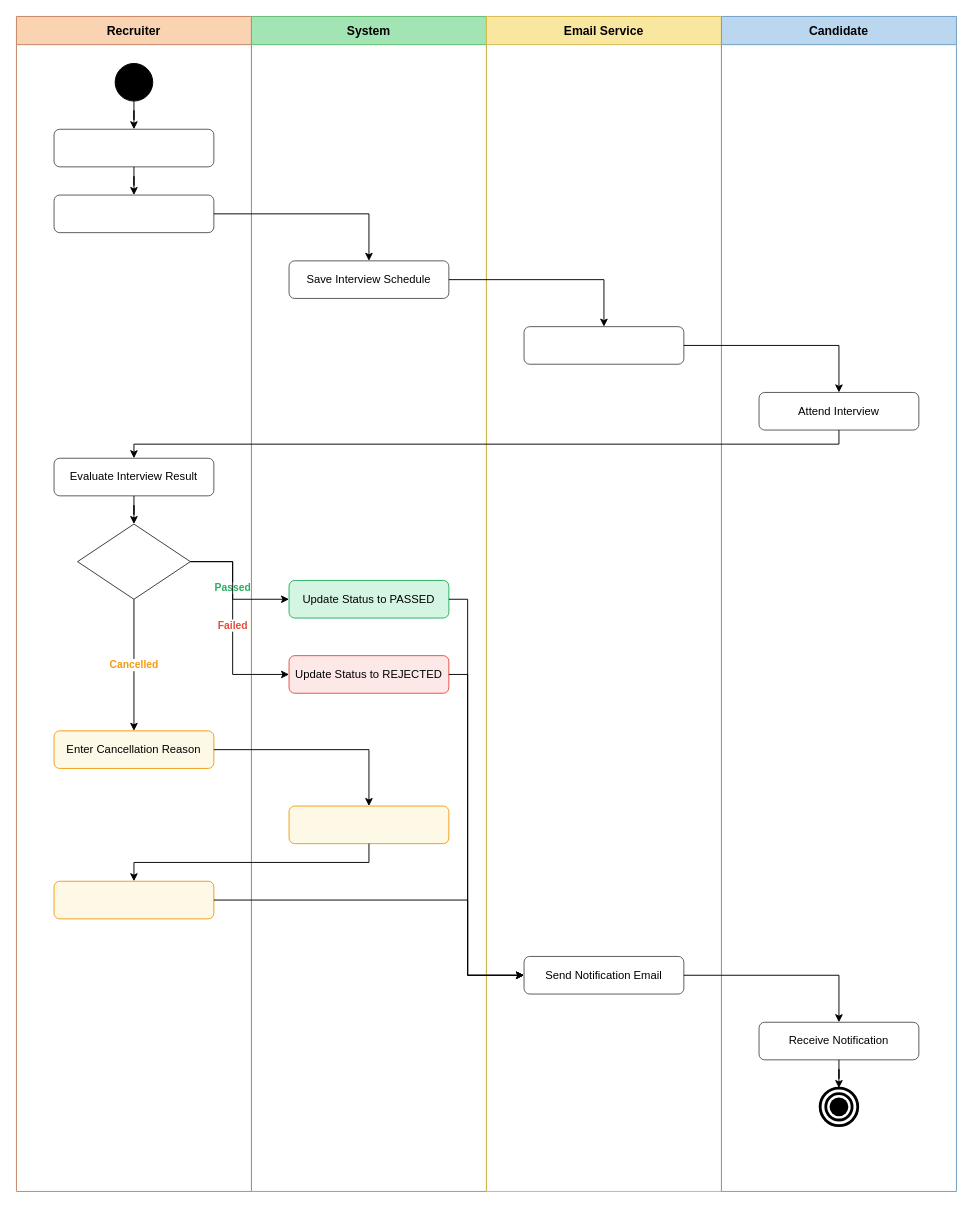
The diagram is 973 pixels wide and 1208 high, and some of its shapes have lost their labels. Here are the shapes that lost their labels. From the top down, the centre of each, then its label:
At point 133,147: "Select APPROVED Application".
At point 133,213: "Create Interview Schedule".
At point 603,345: "Send Interview Invitation".
At point 133,561: "Interview Result?".
At point 368,824: "Update Status to CANCELLED".
At point 133,899: "Recreate Schedule (Optional)".
